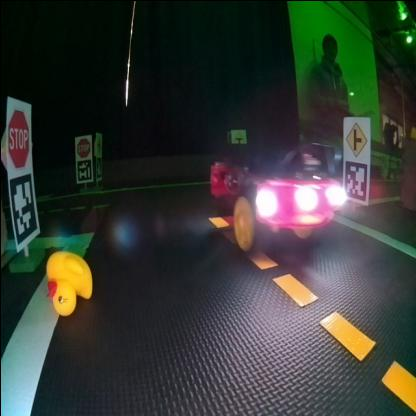Duckie: (45, 250, 89, 312)
Duckiebot: (210, 154, 340, 250)
Intersection sign: (344, 118, 366, 157), (231, 130, 243, 142), (94, 134, 101, 154)
QR code: (7, 172, 38, 242), (342, 158, 366, 200), (74, 156, 90, 178), (94, 156, 100, 180)
Stop sign: (6, 106, 30, 168), (74, 135, 88, 155)
